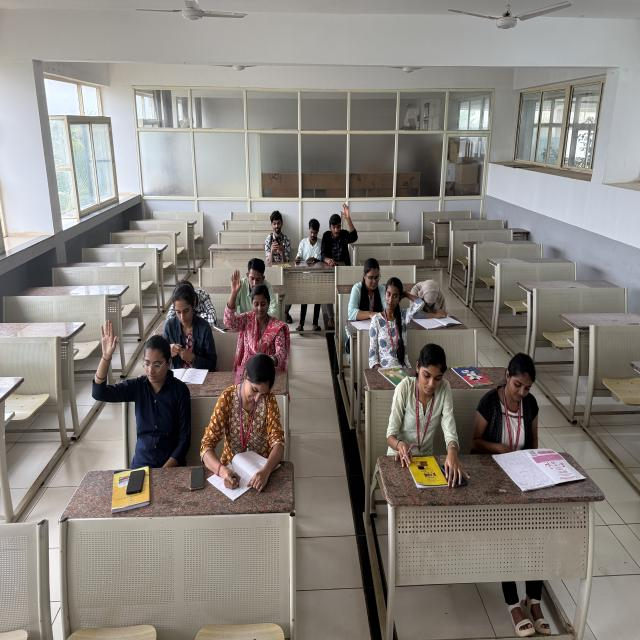Hand Rising: (87, 317, 192, 485), (220, 265, 293, 369), (322, 194, 360, 276)
Reading: (474, 347, 558, 485), (384, 341, 462, 487), (160, 278, 216, 388), (344, 257, 387, 336)
Sleeping: (409, 274, 463, 333)
Using Phone: (258, 208, 297, 272)
Writing: (195, 341, 288, 509), (294, 213, 326, 271)
